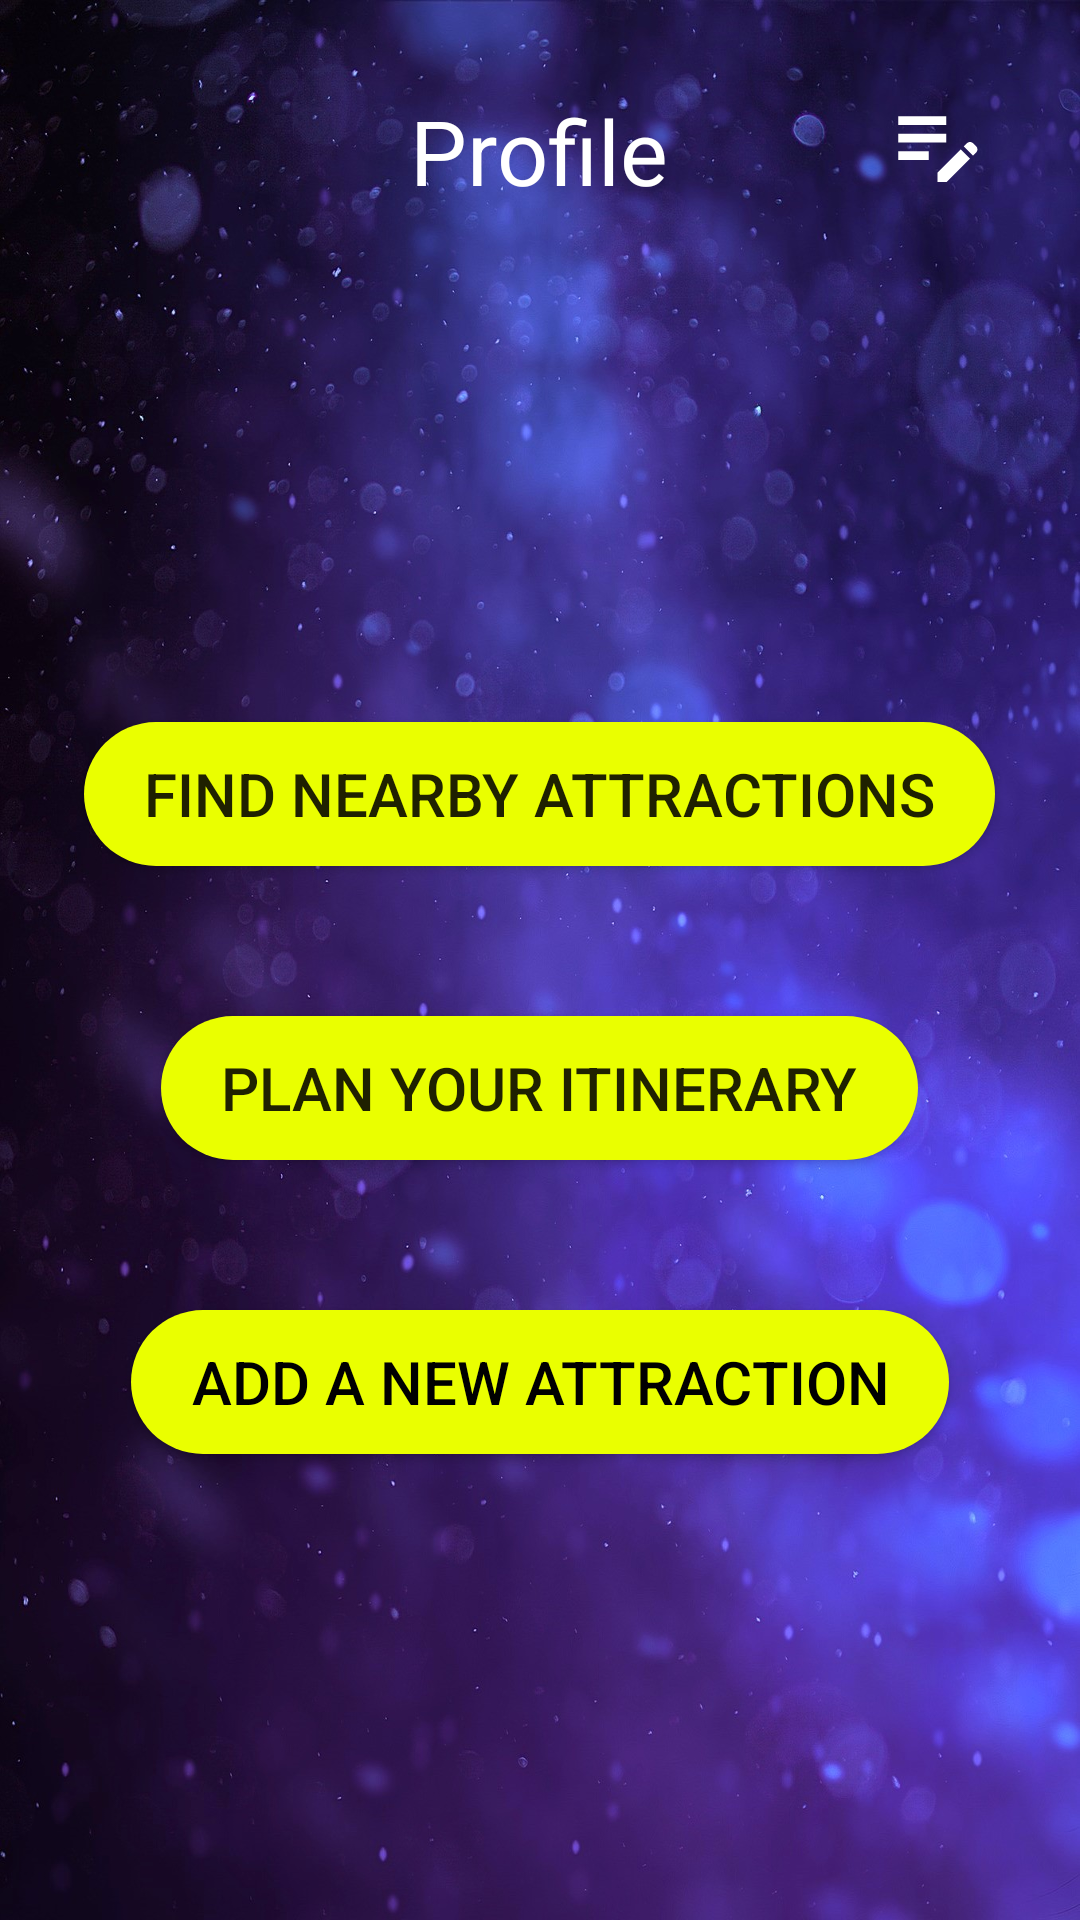

Icons on this 1080*1920 Android screen, each with the point to tap as (x=x, y=y):
edit: (x=937, y=138)
